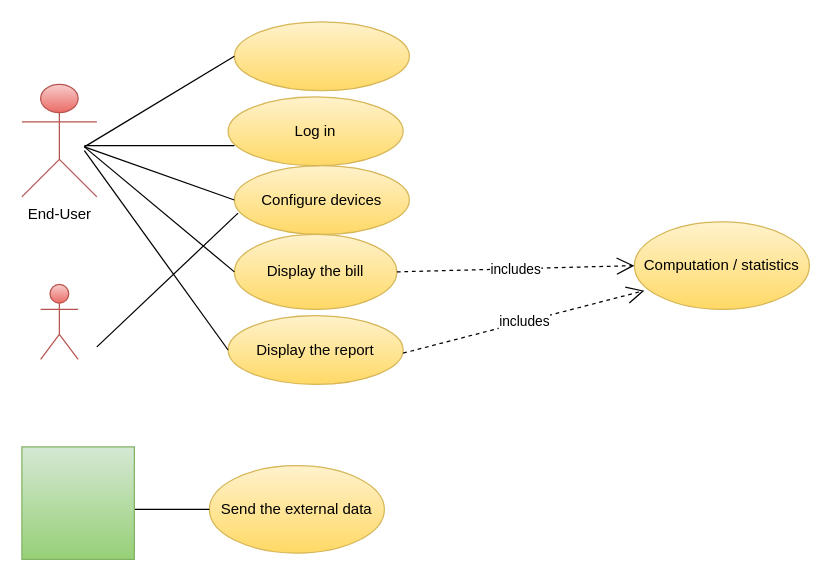
The diagram is 831 pixels wide and 581 high, and some of its shapes have lost their labels. The centre of each missing label's shape, as x and y in pixels:
"Maintainer" goes at pixel 58 321.
"Registration" goes at pixel 321 56.
"Sensors" goes at pixel 77 502.
